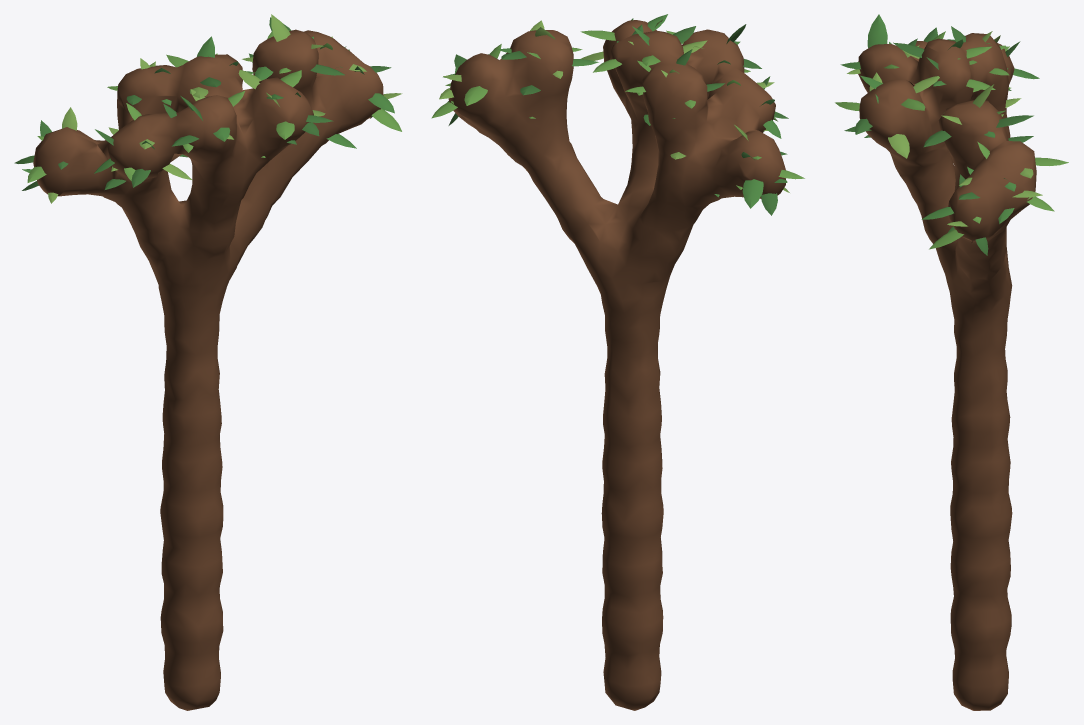
File: plant_cherry_lod2.obj
3 views of the same model, side by side, from view 1: azimuth 30°, elevation 25°; view 2: azimuth 150°, elevation 25°; view 3: azimuth 270°, elevation 25° (orthographic).
Visible parts, largest first — view 1: branches, leaves; view 2: branches, leaves; view 3: branches, leaves.
Part boxes in pixels (x1,y1,x2,y2): branches: [33, 29, 383, 710]; leaves: [14, 14, 402, 203]; branches: [448, 20, 785, 710]; leaves: [431, 14, 804, 215]; branches: [858, 33, 1036, 710]; leaves: [835, 14, 1068, 255].
Size of the model in its own units: 3.04 by 5.39 by 1.71.
